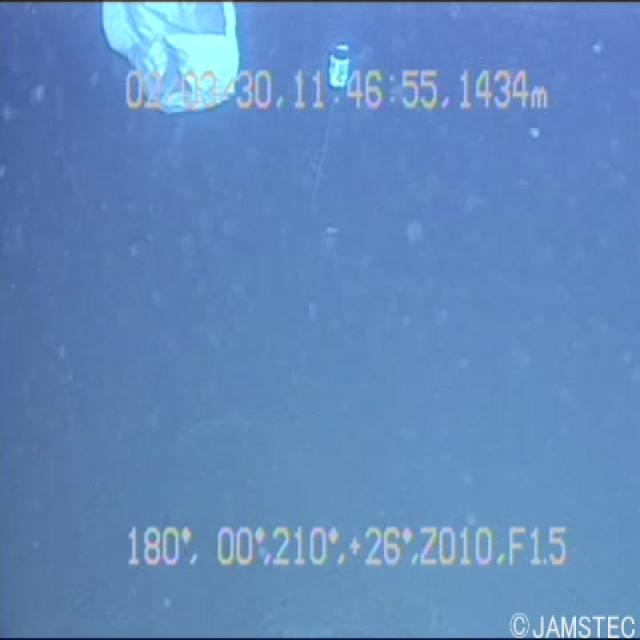plastic: (84, 0, 249, 107)
